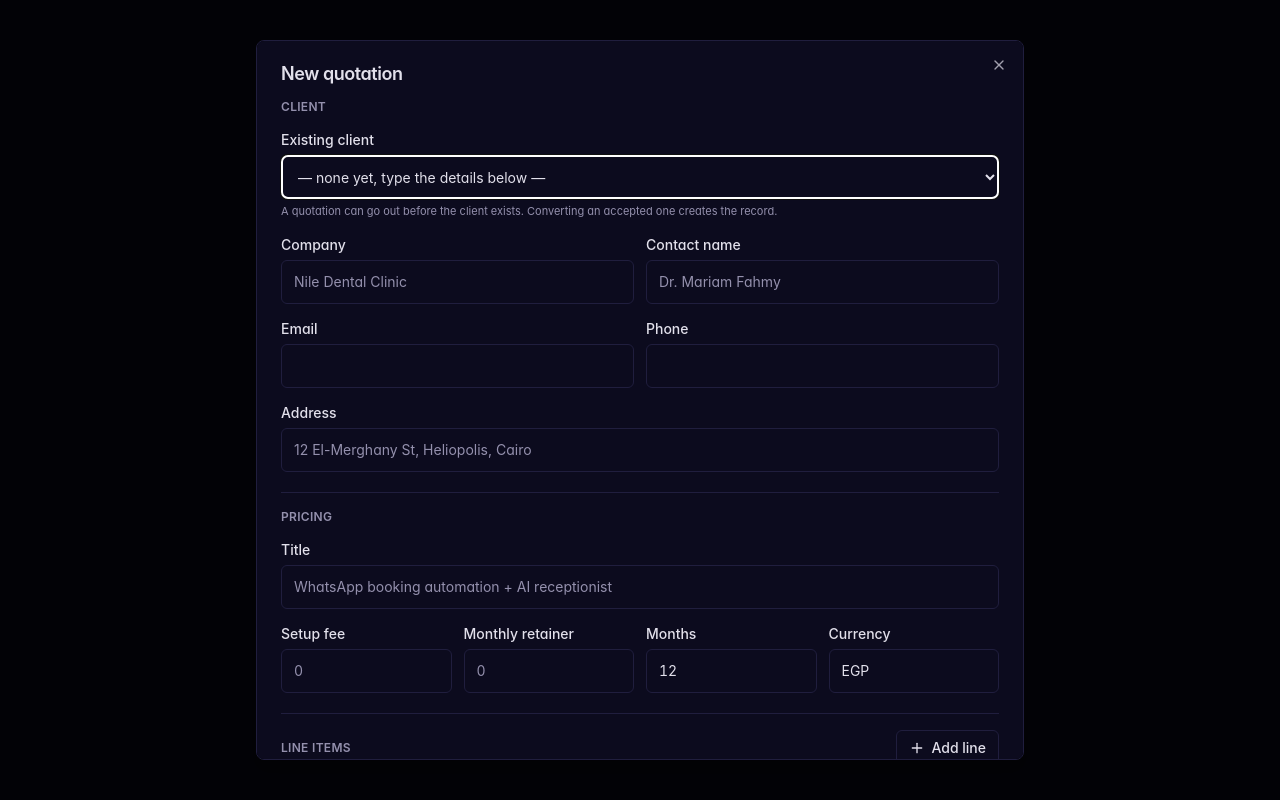
Test: DocumentForm — live total preview › bills a recurring line every month of the term
The image size is (1280, 800).
Replace the text in the field labelled "Months" with "6" at {"x": 731, "y": 670}, box x1=646 y1=648 x2=816 y2=692
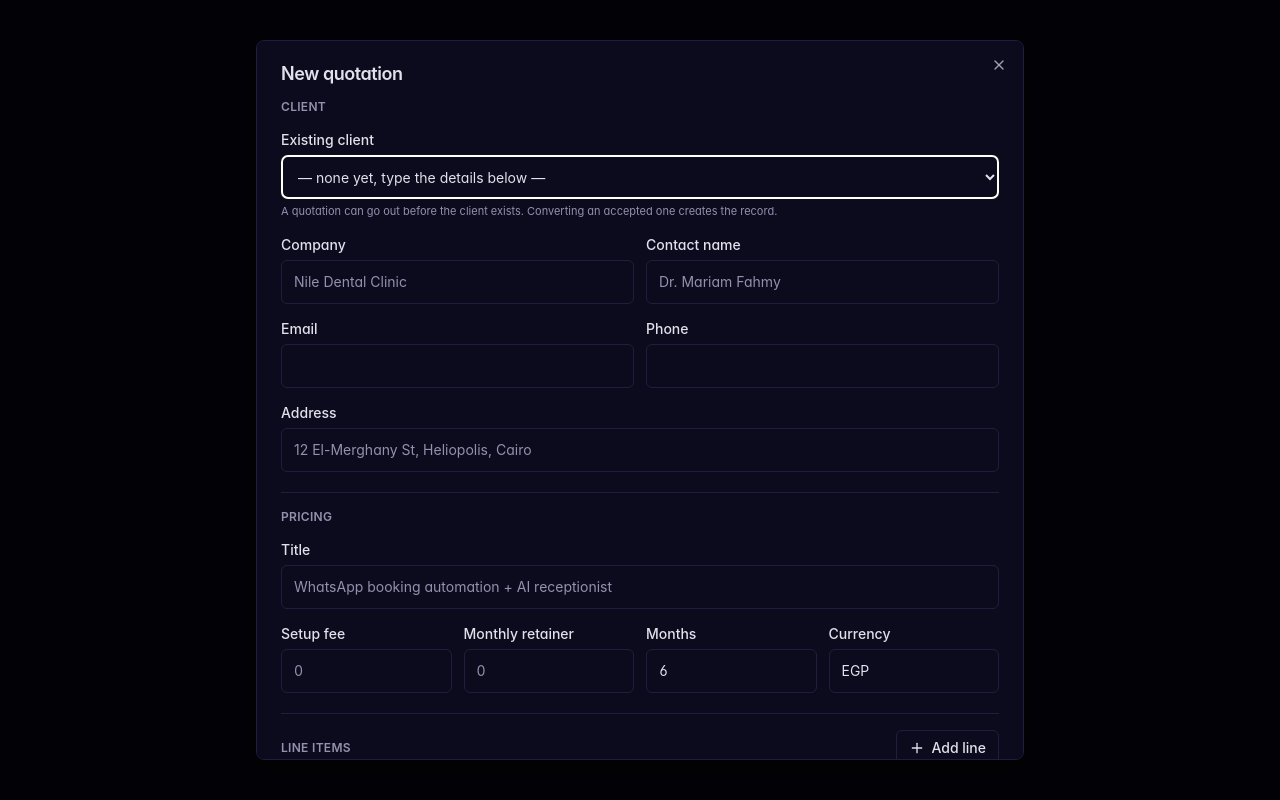
Click the button "Add line".
click(948, 748)  # box x1=896 y1=730 x2=999 y2=766
(page scrolled)
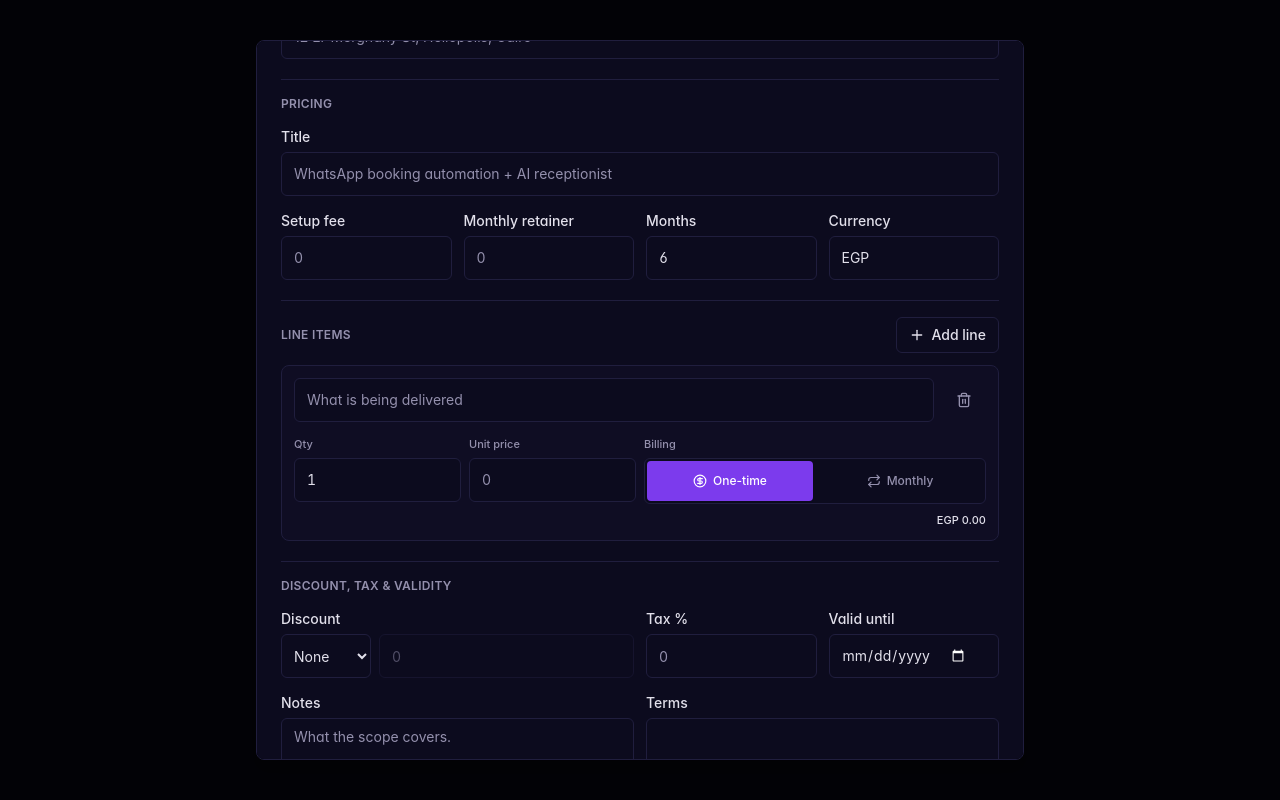
Type "Support seat" into the field named "Line 1 description".
click(614, 400); type("Support seat")  # box x1=294 y1=378 x2=934 y2=422
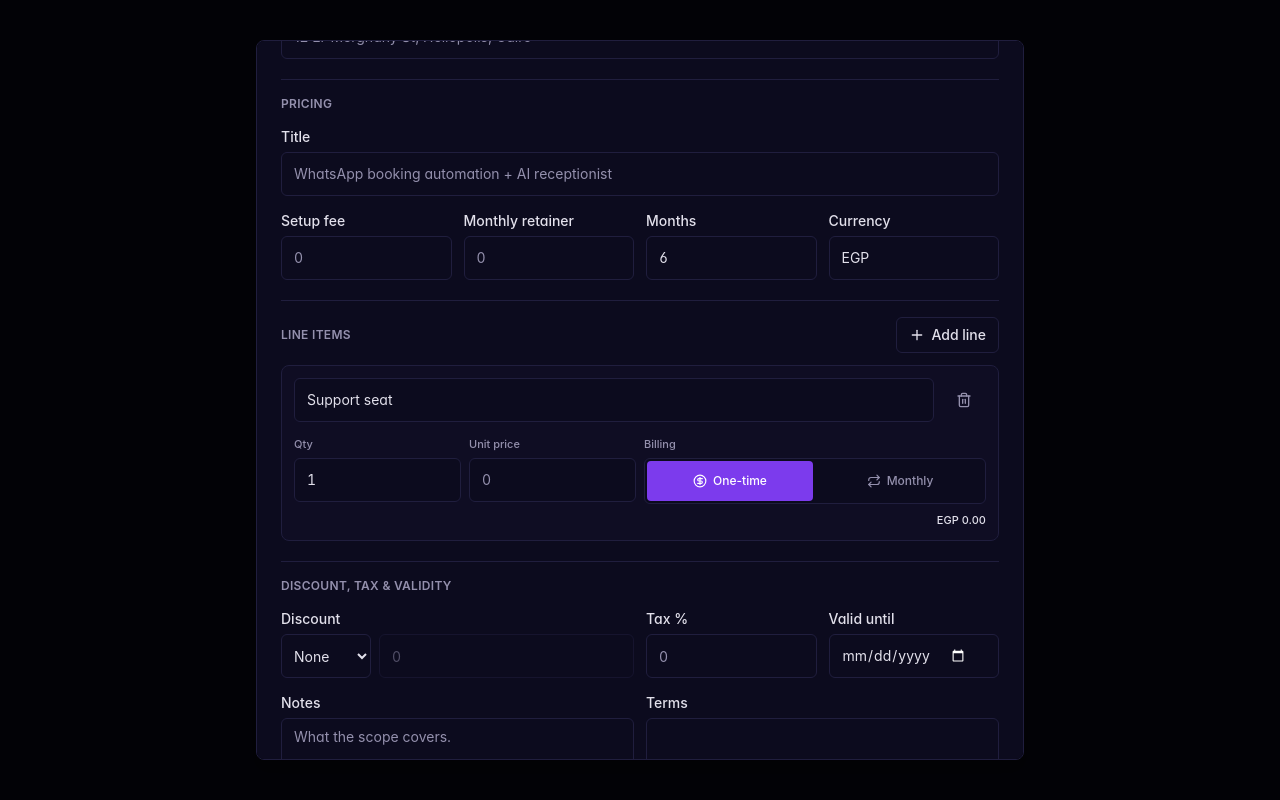
Replace the text in the field named "Line 1 quantity" with "2" at {"x": 378, "y": 480}, box x1=294 y1=458 x2=461 y2=502
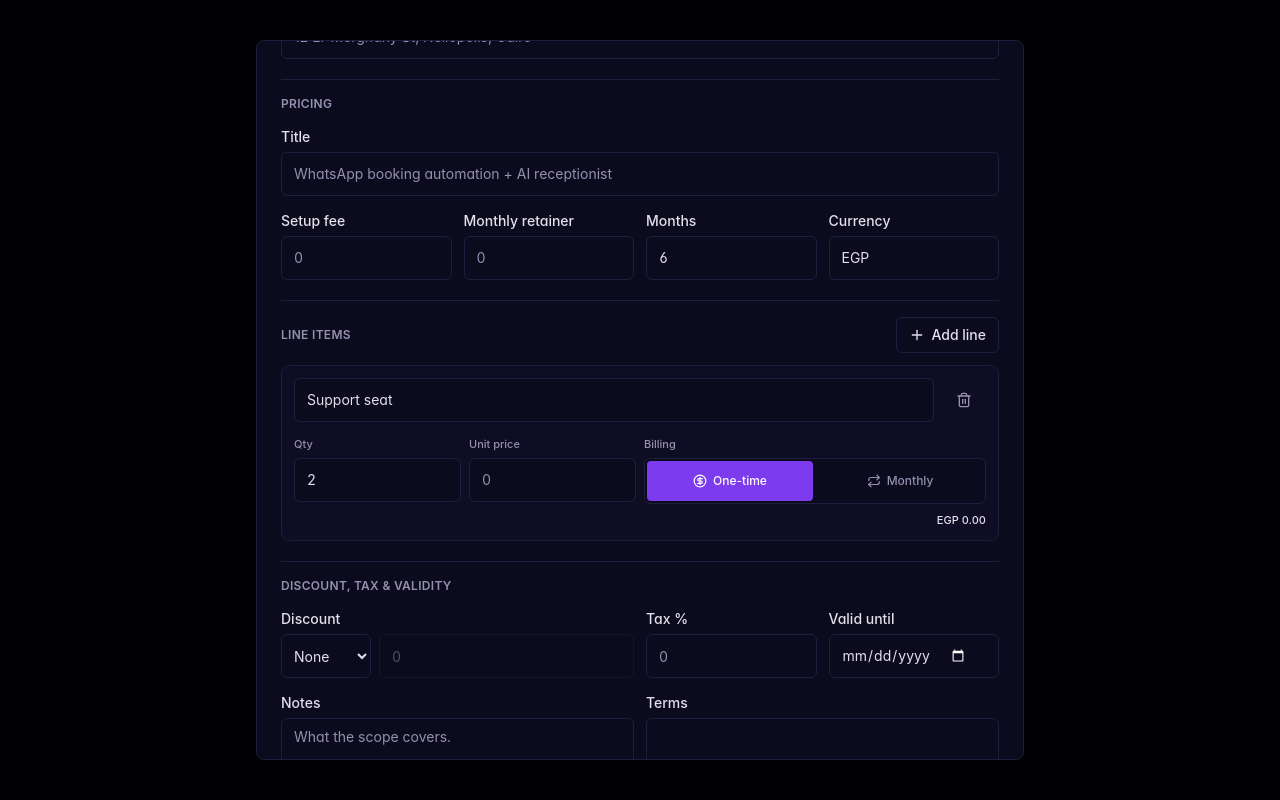
Type "450" into the field named "Line 1 unit price".
click(552, 480); type("450")  # box x1=469 y1=458 x2=636 y2=502
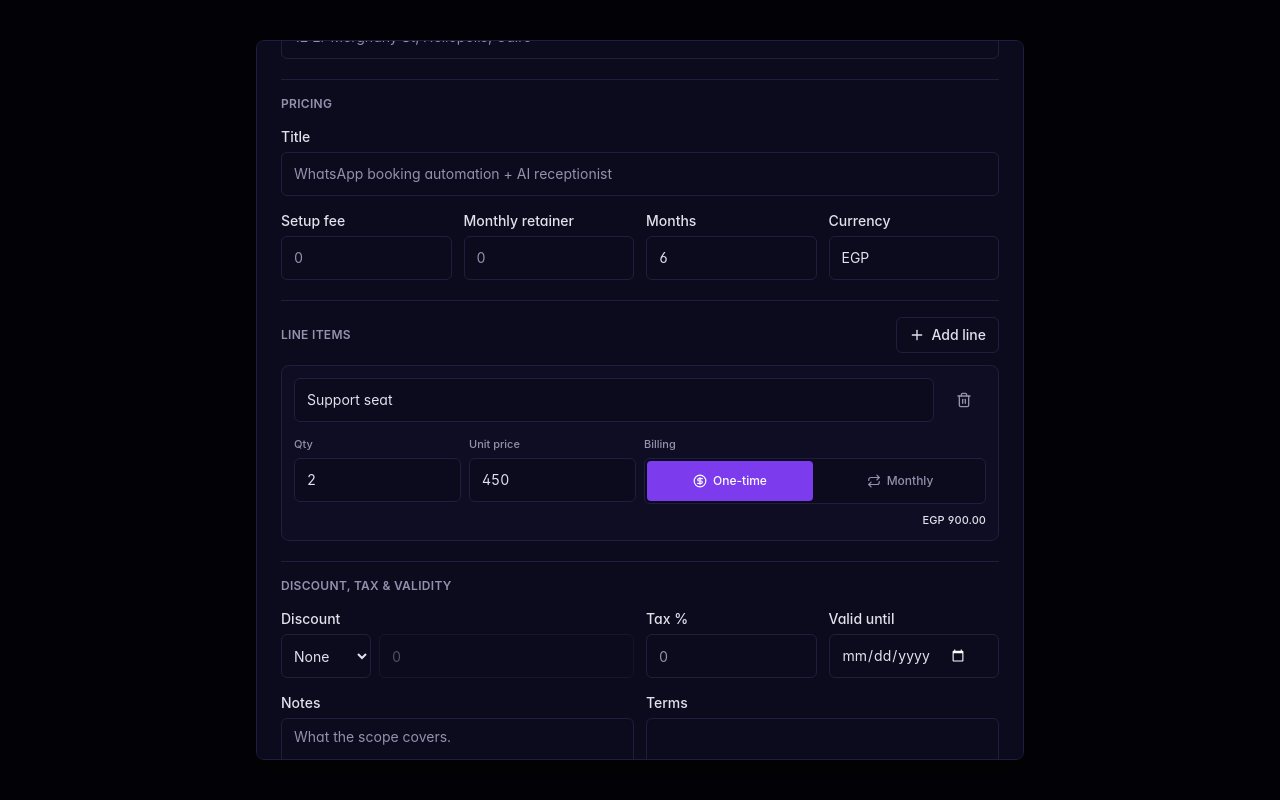
Click the radio button labelled "Monthly".
click(900, 480)  # box x1=817 y1=460 x2=983 y2=500
(page scrolled)
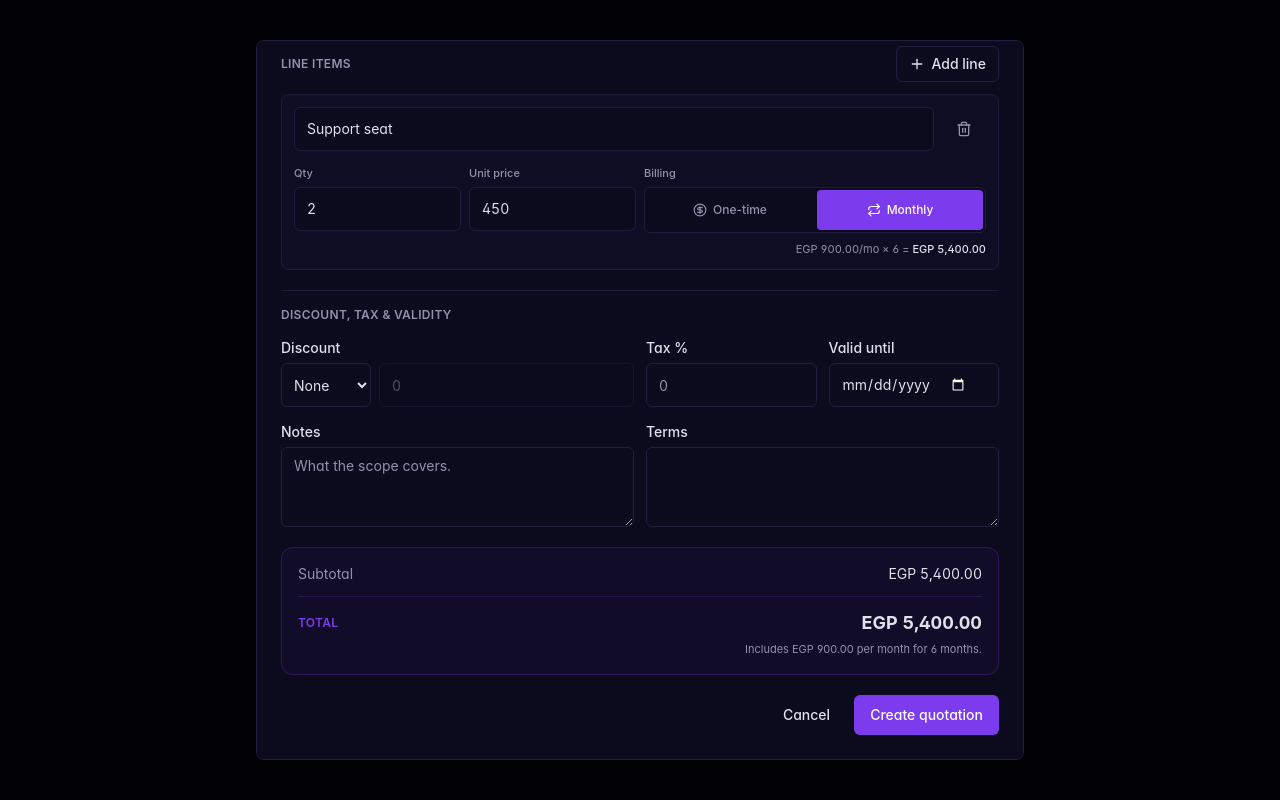
Expected: the text "EGP 900.00/mo × 6 = EGP 5,400.00" is shown, x1=796 y1=242 x2=986 y2=256
Expected: the text named "Total" reads "EGP 5,400.00", x1=862 y1=612 x2=982 y2=633
